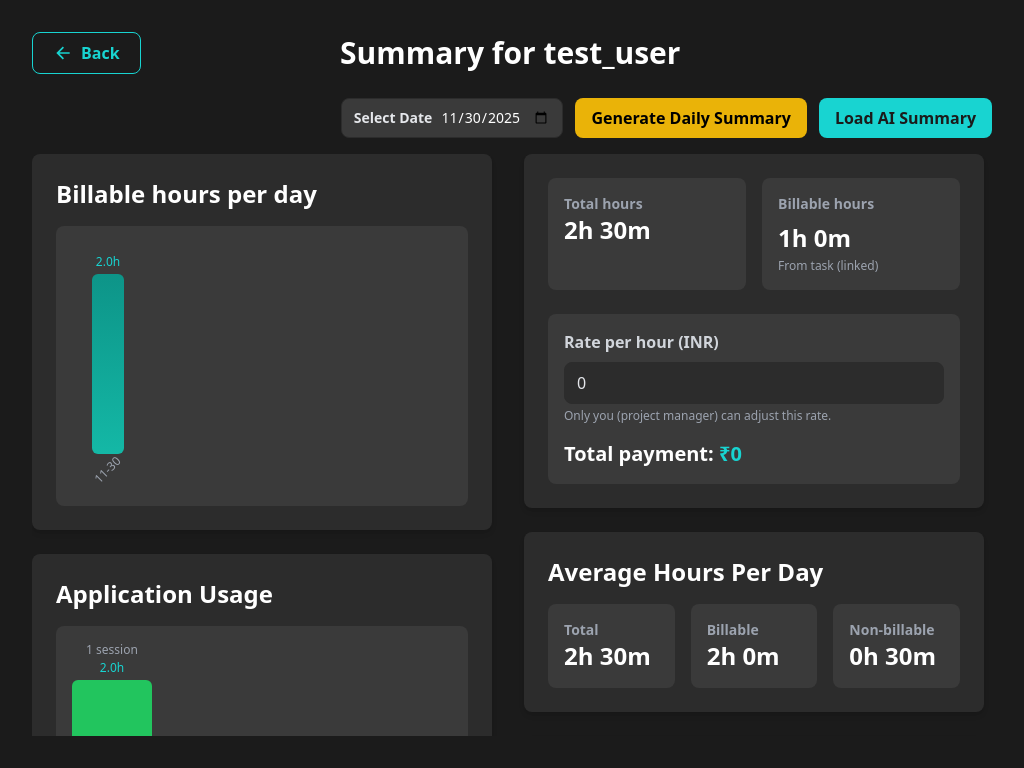
Test: AISummaryPage Component › allows manager to edit rate per hour and calculates payment
expect the text "Rate per hour (INR)" is shown: met, box top-left (564, 331), bottom-right (719, 353)
Type "100" into the field with placeholder "0".
click(754, 383); type("100")  # box top-left (564, 362), bottom-right (944, 404)
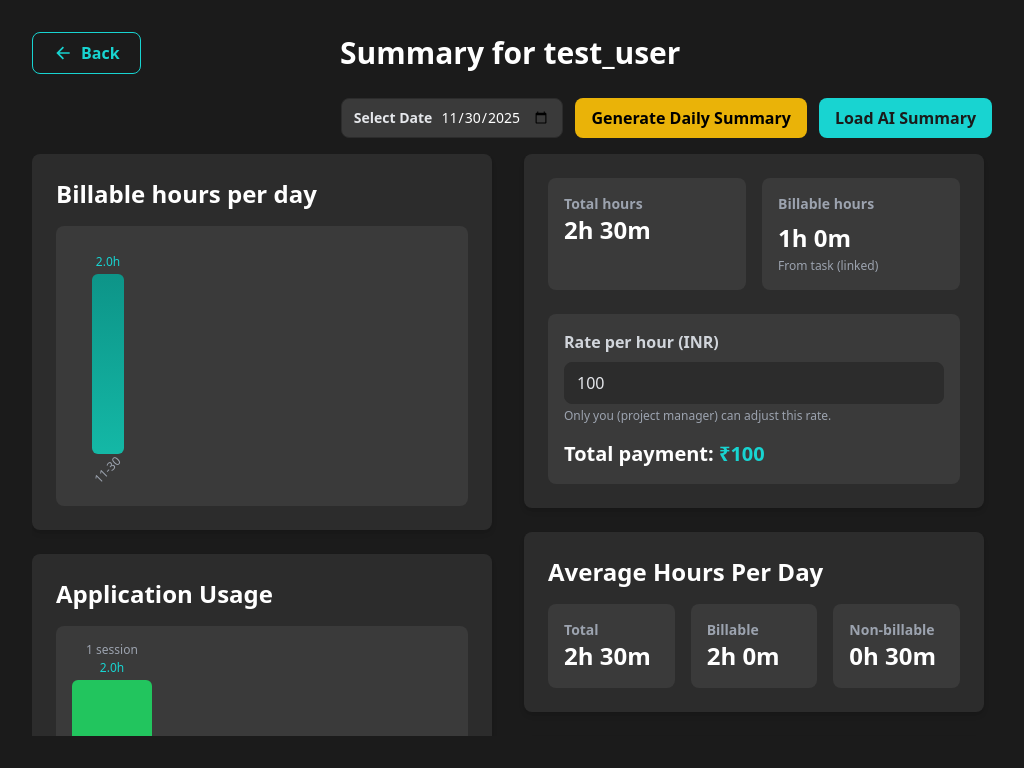
expect the text "₹100" is shown: met, box top-left (719, 440), bottom-right (765, 467)
